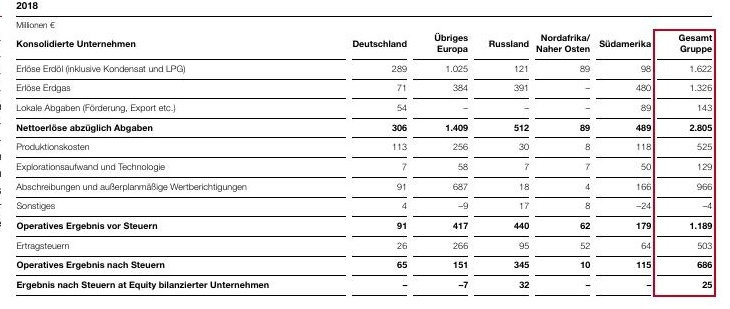table: (0, 0, 730, 309)
